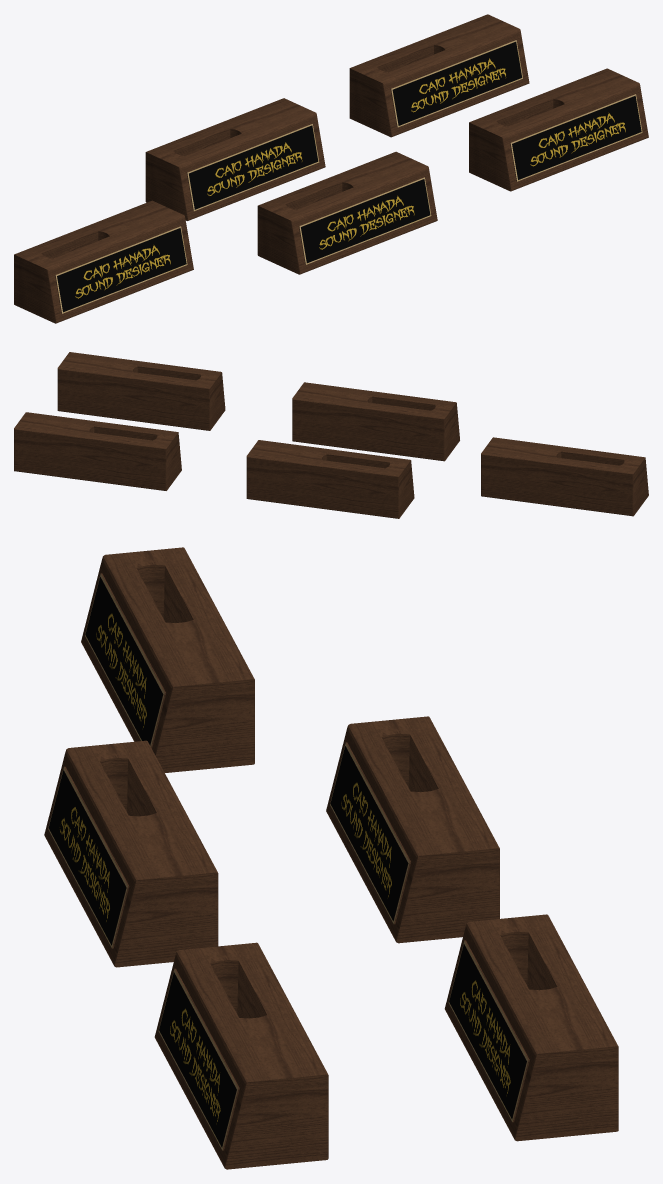
File: TABLE NAME SIGNS EXPORT.fbx
3 views of the same model, one above another, from view 1: azimuth 30°, elevation 25°; view 2: azimuth 150°, elevation 25°; view 3: azimuth 270°, elevation 25° (orthographic). The views are drawn at different scales.
Parts seen in each view (by area): view 1: table name sign.002, table name sign.006, table name sign.001, table name sign.004, table name sign; view 2: table name sign, table name sign.004, table name sign.002, table name sign.001, table name sign.006; view 3: table name sign.004, table name sign.006, table name sign.002, table name sign.001, table name sign.
Part boxes in pixels (box(x1,y1,x2,y2)): table name sign.002: box(257, 151, 437, 274); table name sign.006: box(349, 14, 529, 137); table name sign.001: box(14, 200, 193, 323); table name sign.004: box(469, 68, 648, 191); table name sign: box(145, 98, 325, 220); table name sign: box(246, 440, 414, 518); table name sign.004: box(57, 352, 225, 430); table name sign.002: box(292, 382, 459, 461); table name sign.001: box(481, 437, 648, 516); table name sign.006: box(14, 412, 181, 490); table name sign.004: box(154, 942, 328, 1169); table name sign.006: box(444, 914, 618, 1141); table name sign.002: box(44, 740, 218, 967); table name sign.001: box(81, 547, 254, 772); table name sign: box(326, 716, 499, 943).
Size of the model in its own units: 1553 by 115 by 702.
